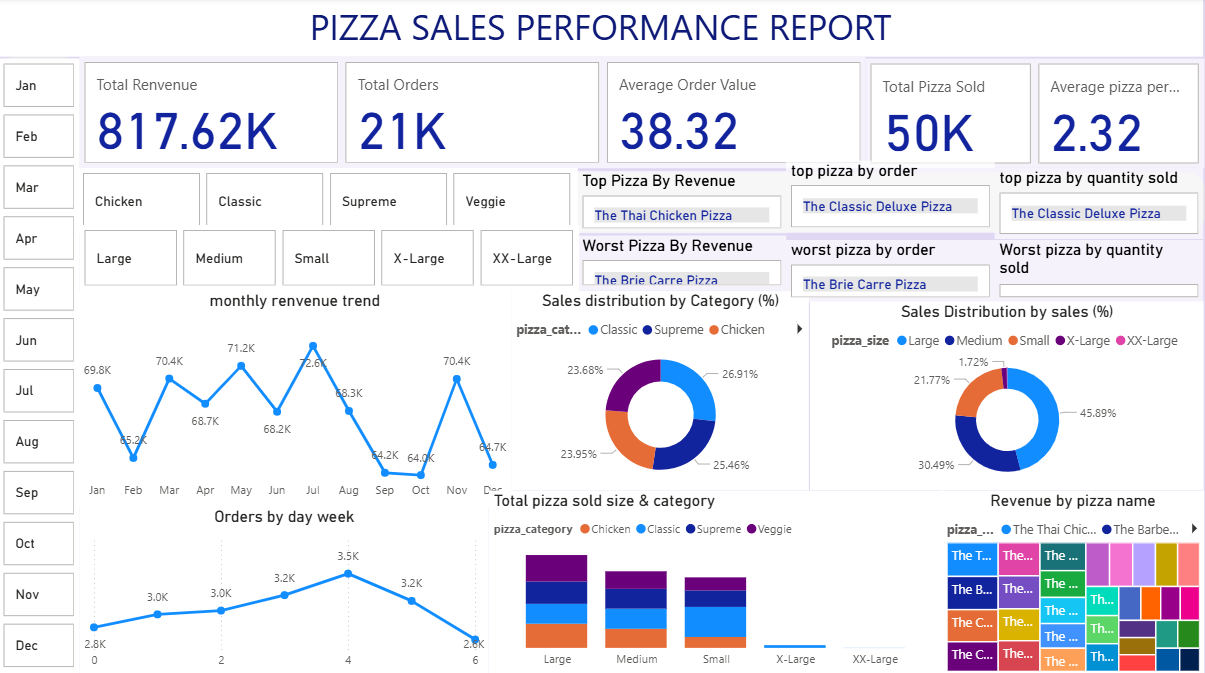

The dashboard page shown, as its layout file describes it:
{"tool":"powerbi","page":{"name":"DASHBOARD","canvas":[1280,720],"ordinal":0},"visuals":[{"type":"cardVisual","fields":{"Data":["PIZZA SALES.Total Renvenue","PIZZA SALES.Total Orders","PIZZA SALES.Average Order Value"]},"box":[87.5,63.6,833.5,117.7],"z":0},{"type":"cardVisual","fields":{"Data":["PIZZA SALES.Total Pizza Sold","PIZZA SALES.Average pizza per order"]},"box":[921,65.2,359.5,116.1],"z":1000},{"type":"shape","box":[0,186.1,1280.4,63.6],"z":2000},{"type":"shape","box":[0,63.6,87.5,656.9],"z":3000},{"type":"lineChart","title":"monthly renvenue trend","fields":{"Category":["PIZZA SALES.Month Name"],"Y":["PIZZA SALES.Total Renvenue"]},"box":[85.9,311.8,459.7,229],"z":4000},{"type":"lineChart","title":"Orders by day week","fields":{"Y":["PIZZA SALES.Total Orders"],"Category":["PIZZA SALES.Day of Week"]},"box":[87.5,540.8,434.2,179.7],"z":5000},{"type":"donutChart","title":"Sales distribution by Category (%)","fields":{"Category":["PIZZA SALES.pizza_category"],"Y":["PIZZA SALES.Total Renvenue"]},"box":[546.1,311.8,315.6,211.7],"z":6000},{"type":"donutChart","title":"Sales Distribution by sales (%)","fields":{"Y":["PIZZA SALES.Total Renvenue"],"Category":["PIZZA SALES.pizza_size"]},"box":[861.7,323.2,417.6,200.3],"z":7000},{"type":"columnChart","title":"Total pizza sold size & category","fields":{"Category":["PIZZA SALES.pizza_size"],"Y":["PIZZA SALES.Total Pizza Sold"],"Series":["PIZZA SALES.pizza_category"]},"box":[521.6,523.5,481.9,196.5],"z":8000},{"type":"treemap","title":"Revenue by pizza name","fields":{"Values":["PIZZA SALES.Total Renvenue"],"Group":["PIZZA SALES.pizza_name"]},"box":[1001.6,523.5,277.8,196.5],"z":9000},{"type":"advancedSlicerVisual","title":"Top Pizza By Revenue","fields":{"Values":["PIZZA SALES.pizza_name"]},"box":[616.1,185.2,221.1,66.1],"z":10000},{"type":"advancedSlicerVisual","title":"Worst Pizza By Revenue","fields":{"Values":["PIZZA SALES.pizza_name"]},"box":[616.1,253.2,221.1,58.6],"z":11000},{"type":"advancedSlicerVisual","title":"top pizza by order","fields":{"Values":["PIZZA SALES.pizza_name"]},"box":[836.7,173.4,221.1,76.3],"z":12000},{"type":"advancedSlicerVisual","title":"worst pizza by order","fields":{"Values":["PIZZA SALES.pizza_name"]},"box":[837.2,257,221.1,66.1],"z":13000},{"type":"advancedSlicerVisual","title":"top pizza by quantity sold","fields":{"Values":["PIZZA SALES.pizza_name"]},"box":[1058.3,181.4,221.1,75.6],"z":14000},{"type":"advancedSlicerVisual","title":"Worst pizza by quantity sold","fields":{"Values":["PIZZA SALES.pizza_name"]},"box":[1058.3,257,221.1,66.1],"z":15000},{"type":"advancedSlicerVisual","fields":{"Values":["PIZZA SALES.Month Name"]},"box":[1.6,65.2,85.9,655.3],"z":16000},{"type":"advancedSlicerVisual","fields":{"Values":["PIZZA SALES.pizza_category"]},"box":[85.9,181.3,529.7,70],"z":17000},{"type":"advancedSlicerVisual","fields":{"Values":["PIZZA SALES.pizza_size"]},"box":[87.5,241.8,529.7,70],"z":18000},{"type":"textbox","box":[1.6,0,1277.3,63.6],"z":19000}]}

Visuals, with their boxes in screenshot pixels (x1, y1, x2, y2), scaled from the page's 1280x720 canvas onto the 1205x673 screenshot:
cardVisual - PIZZA SALES.Total Renvenue x PIZZA SALES.Total Orders: pyautogui.locateOnScreen(82, 59, 867, 169)
cardVisual - PIZZA SALES.Total Pizza Sold x PIZZA SALES.Average pizza per order: pyautogui.locateOnScreen(867, 61, 1204, 169)
shape: pyautogui.locateOnScreen(0, 174, 1204, 233)
shape: pyautogui.locateOnScreen(0, 59, 82, 672)
"monthly renvenue trend" lineChart: pyautogui.locateOnScreen(81, 291, 514, 505)
"Orders by day week" lineChart: pyautogui.locateOnScreen(82, 505, 491, 672)
"Sales distribution by Category (%)" donutChart: pyautogui.locateOnScreen(514, 291, 811, 489)
"Sales Distribution by sales (%)" donutChart: pyautogui.locateOnScreen(811, 302, 1204, 489)
"Total pizza sold size & category" columnChart: pyautogui.locateOnScreen(491, 489, 945, 672)
"Revenue by pizza name" treemap: pyautogui.locateOnScreen(943, 489, 1204, 672)
"Top Pizza By Revenue" advancedSlicerVisual: pyautogui.locateOnScreen(580, 173, 788, 235)
"Worst Pizza By Revenue" advancedSlicerVisual: pyautogui.locateOnScreen(580, 237, 788, 291)
"top pizza by order" advancedSlicerVisual: pyautogui.locateOnScreen(788, 162, 996, 233)
"worst pizza by order" advancedSlicerVisual: pyautogui.locateOnScreen(788, 240, 996, 302)
"top pizza by quantity sold" advancedSlicerVisual: pyautogui.locateOnScreen(996, 170, 1204, 240)
"Worst pizza by quantity sold" advancedSlicerVisual: pyautogui.locateOnScreen(996, 240, 1204, 302)
advancedSlicerVisual - PIZZA SALES.Month Name: pyautogui.locateOnScreen(2, 61, 82, 672)
advancedSlicerVisual - PIZZA SALES.pizza_category: pyautogui.locateOnScreen(81, 169, 580, 235)
advancedSlicerVisual - PIZZA SALES.pizza_size: pyautogui.locateOnScreen(82, 226, 581, 291)
textbox: pyautogui.locateOnScreen(2, 0, 1204, 59)
